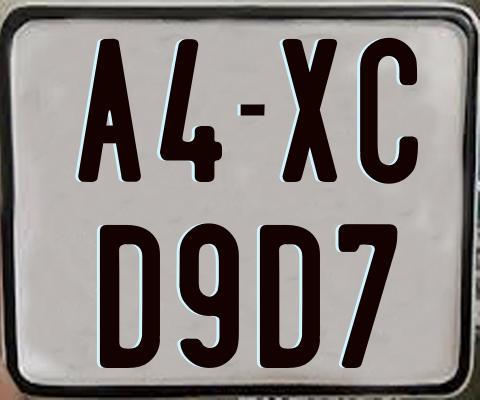4: (160, 38, 225, 186)
7: (337, 223, 402, 369)
9: (179, 222, 240, 369)
A: (77, 38, 141, 182)
C: (359, 38, 423, 190)
D: (260, 225, 325, 369), (100, 224, 161, 373)
X: (281, 38, 336, 183)
